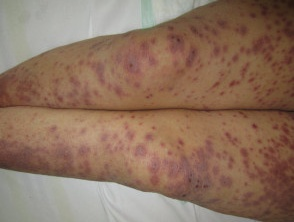SJS-TEN: (0, 93, 294, 220), (0, 0, 293, 110)
